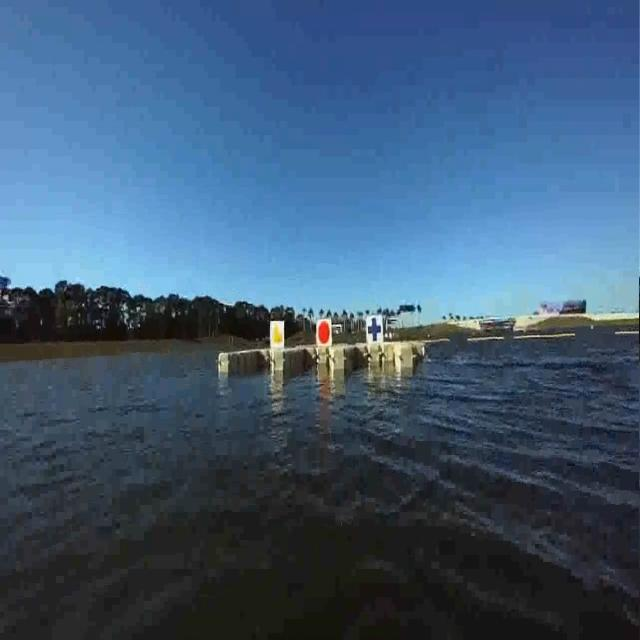blue-cross: (366, 314, 384, 350)
red-dot: (319, 320, 330, 338)
yellow-duck: (273, 325, 284, 345)
